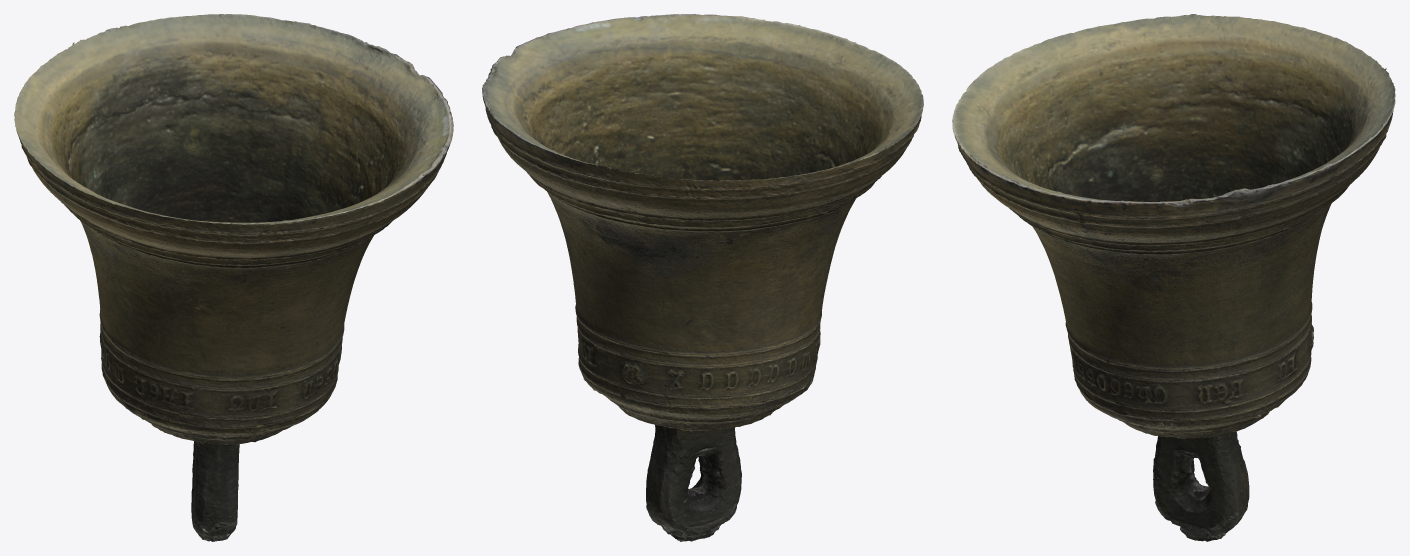
Rendered from MaryRoseBell_100kMesh.obj.
3 views of the same model, side by side, from view 1: azimuth 30°, elevation 25°; view 2: azimuth 150°, elevation 25°; view 3: azimuth 270°, elevation 25° (orthographic).
Bounding box in the file's own units: 0.2022 × 0.2242 × 0.2019.
Materials: 1 (1 with a texture image).
